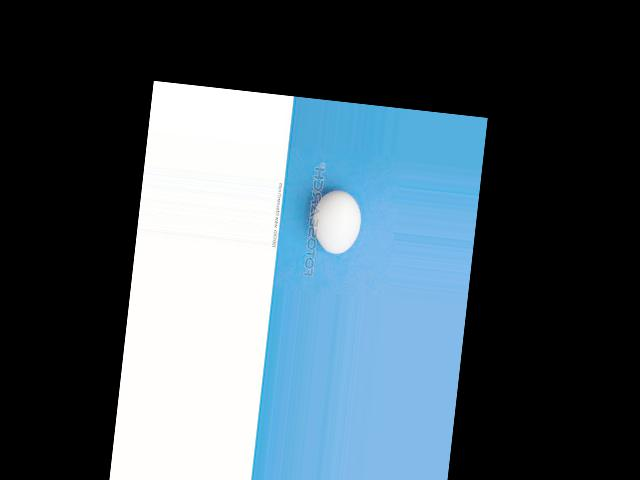egg: (307, 187, 363, 255)
